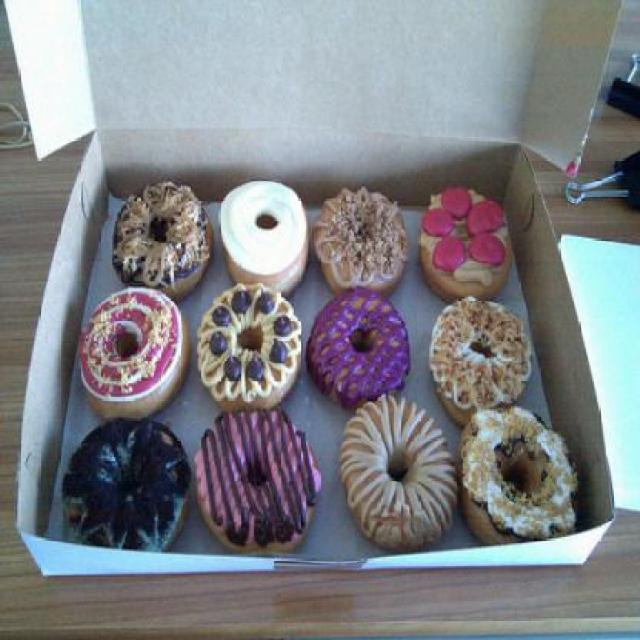Donuts: (47, 172, 616, 574)
